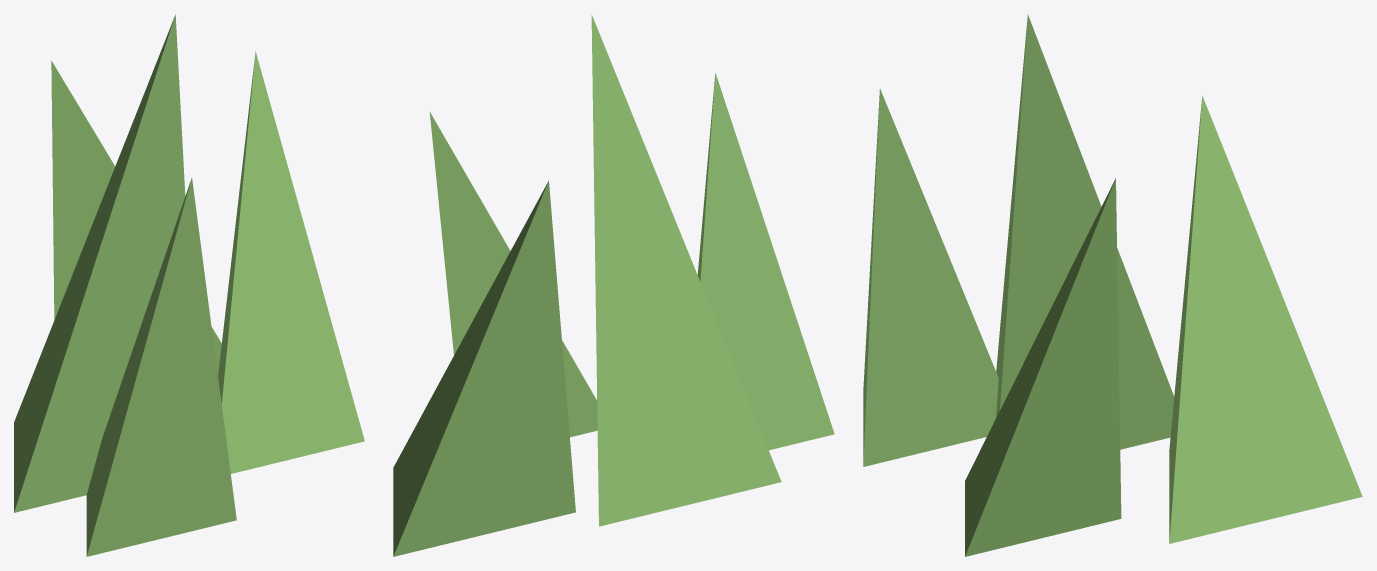
File: Grass3.fbx
3 views of the same model, side by side, from view 1: azimuth 30°, elevation 25°; view 2: azimuth 150°, elevation 25°; view 3: azimuth 270°, elevation 25° (orthographic). The views are drawn at different scales.
Parts seen in each view (by area): view 1: Grass 3; view 2: Grass 3; view 3: Grass 3.
Boxes of the visible parts, x1,y1,x2,y2 form: Grass 3: [14, 14, 364, 556]; Grass 3: [393, 15, 834, 556]; Grass 3: [863, 14, 1362, 556].
Bounding box in the file's own units: 159 × 200 × 196.
